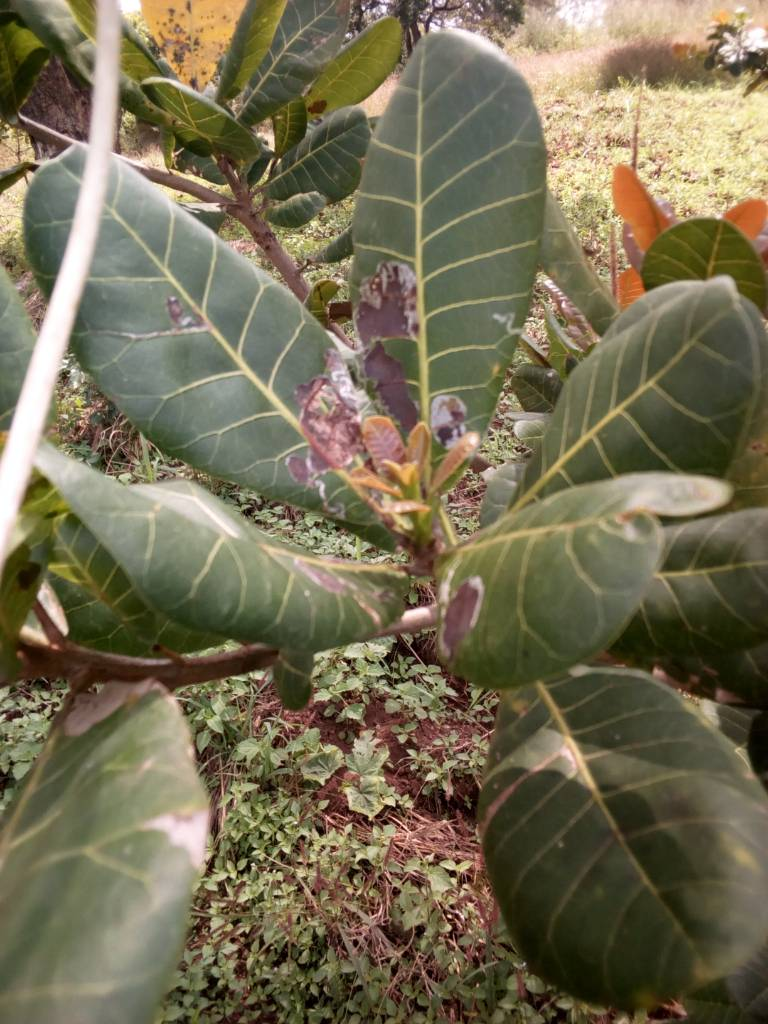Dysdercus wolkerii: (354, 20, 550, 475)
